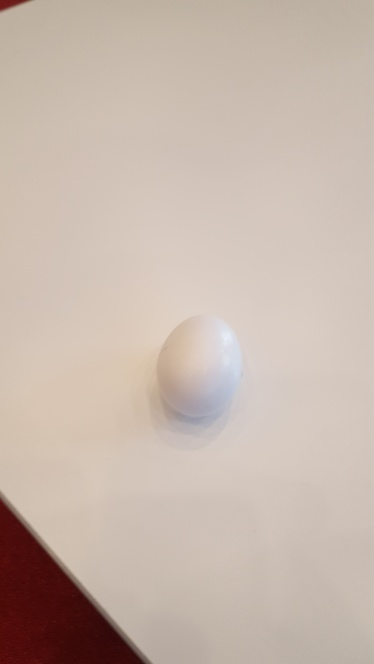egg: (154, 306, 248, 425)
